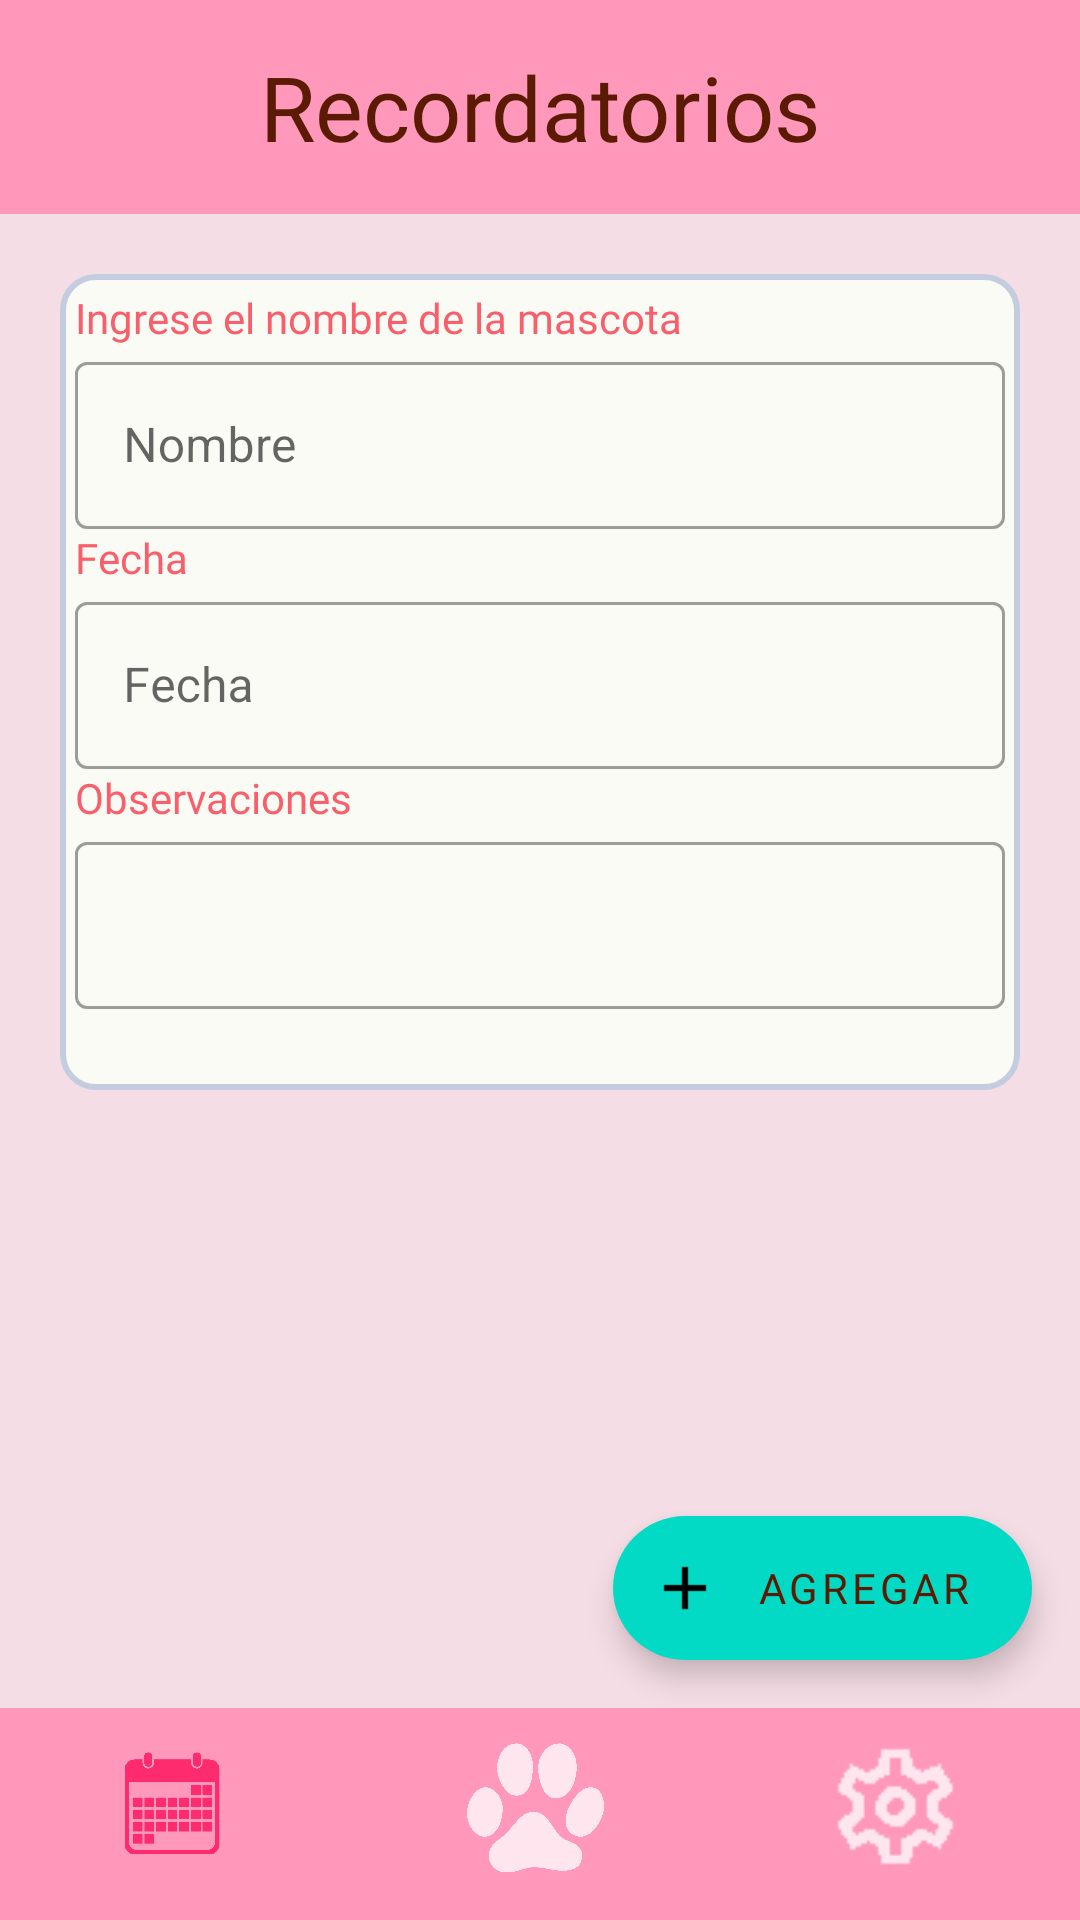

Named icons in this screenshot (1080px x 1920px) and their bounding boxes, (x1, y1, x2, y2):
calendarselected: (125, 1752, 220, 1854)
setting: (838, 1749, 953, 1864)
